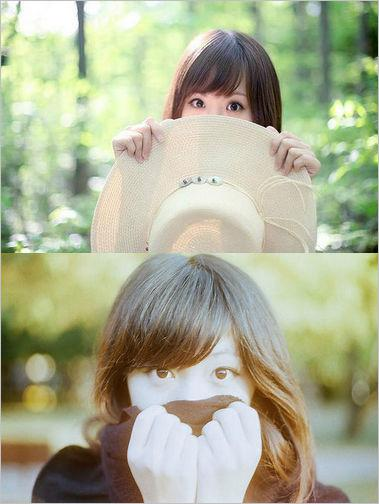NONE: (171, 81, 261, 171)
WRONG: (133, 340, 254, 461)
